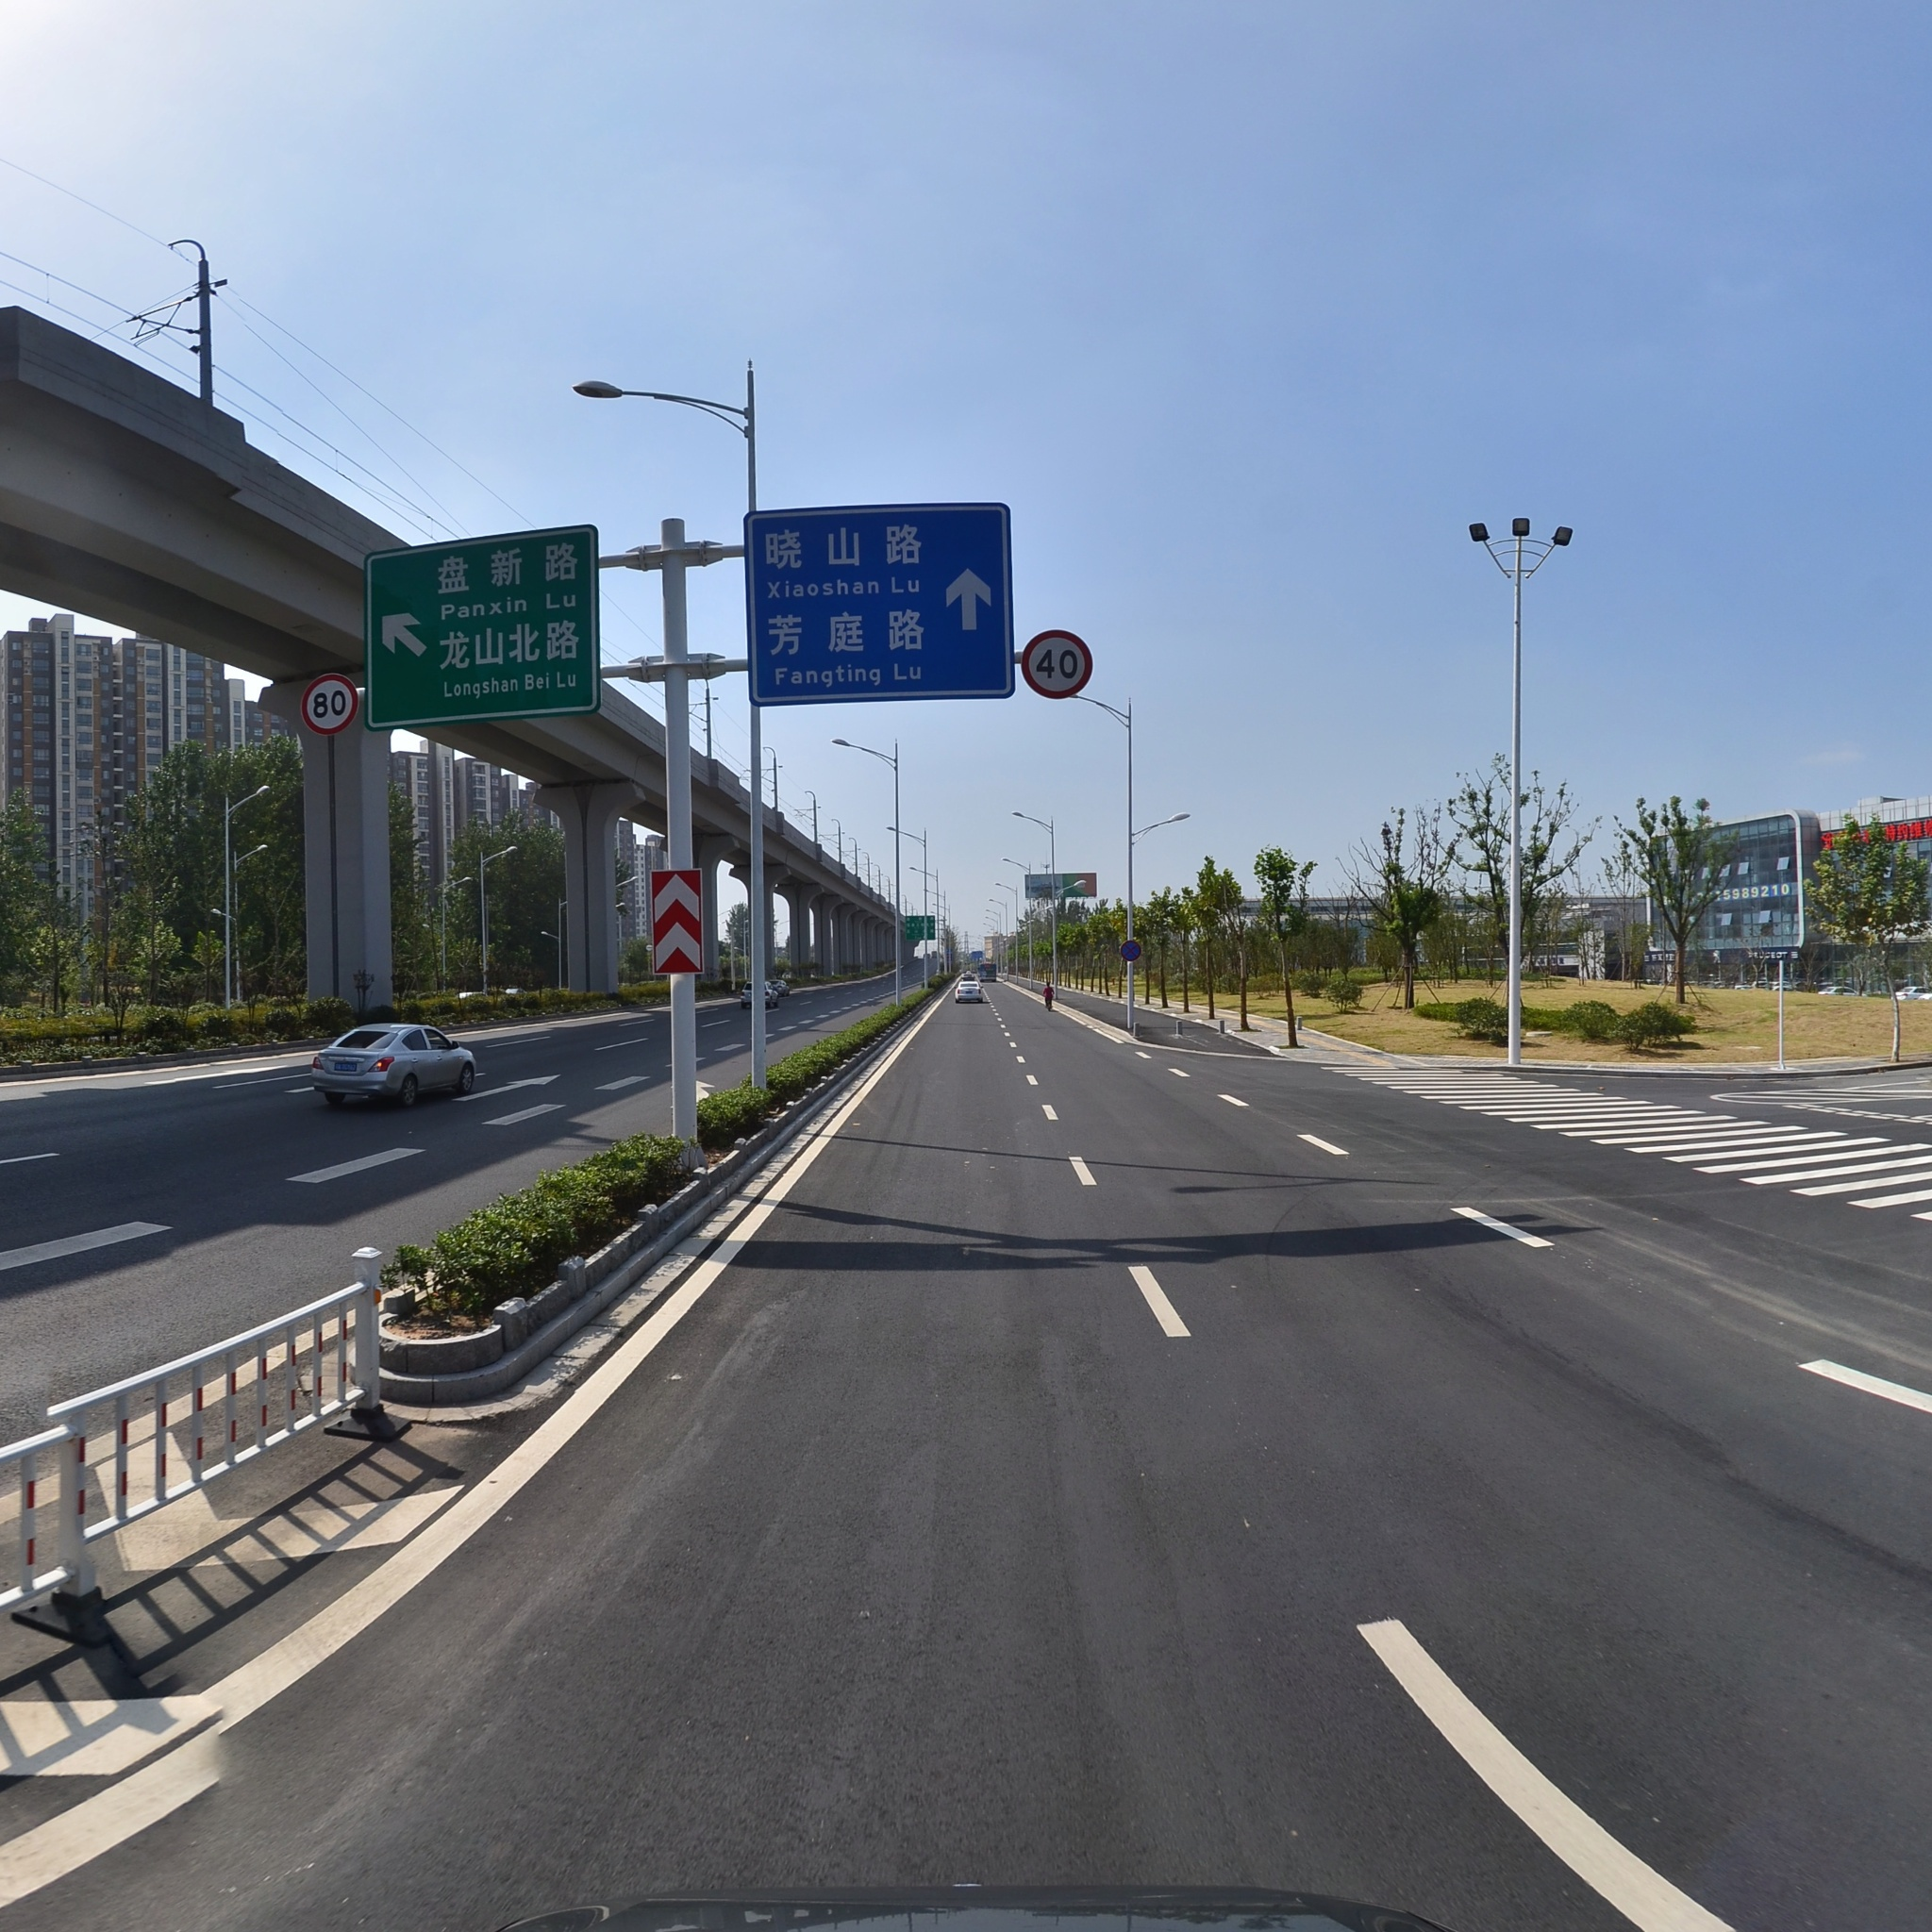traffic_sign: (1021, 628, 1092, 699), (301, 674, 357, 736), (1120, 939, 1139, 959)
